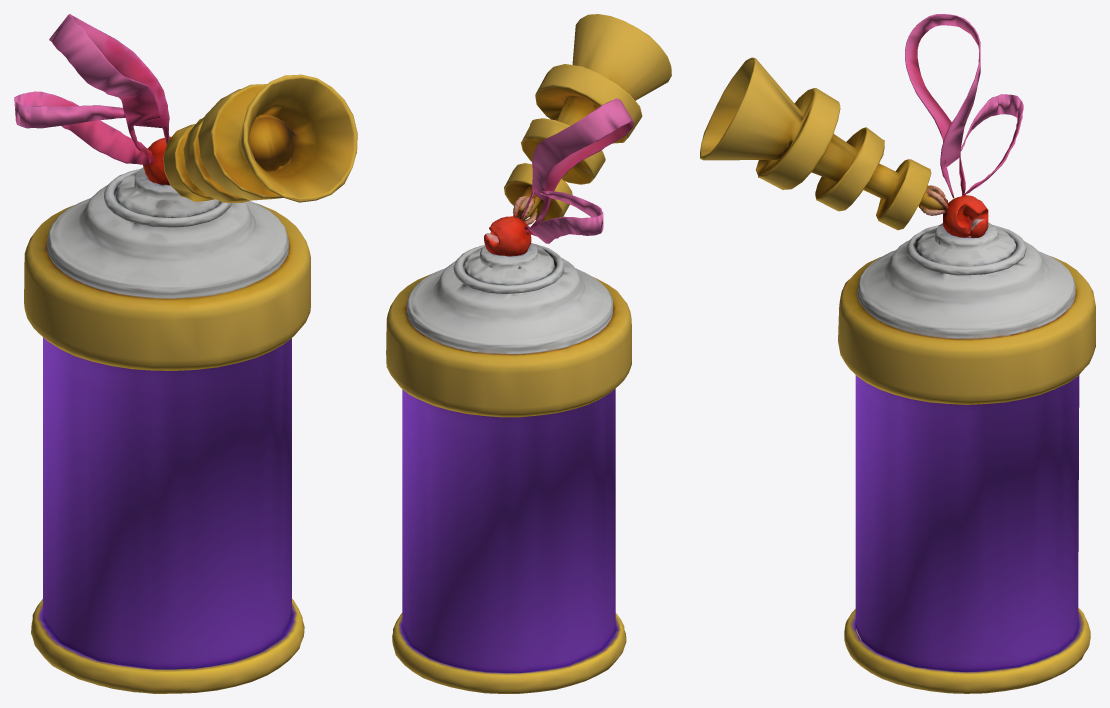
Rendered from r33-popper.glb.
The picture shows the model from 3 angles, left to right: view 1: azimuth 30°, elevation 25°; view 2: azimuth 150°, elevation 25°; view 3: azimuth 270°, elevation 25°; orthographic projection. The views are drawn at different scales.
Visible parts, largest first — view 1: tripo_node_5b5e11d7-5e16-4323-aa5f-6118f6218c29; view 2: tripo_node_5b5e11d7-5e16-4323-aa5f-6118f6218c29; view 3: tripo_node_5b5e11d7-5e16-4323-aa5f-6118f6218c29.
Part boxes in pixels (x1,y1,x2,y2): tripo_node_5b5e11d7-5e16-4323-aa5f-6118f6218c29: (14, 14, 357, 693); tripo_node_5b5e11d7-5e16-4323-aa5f-6118f6218c29: (386, 14, 671, 693); tripo_node_5b5e11d7-5e16-4323-aa5f-6118f6218c29: (700, 14, 1095, 693).
Size of the model in its own units: 0.4043 by 0.998 by 0.6113.
Materials: 1 (1 with a texture image).
